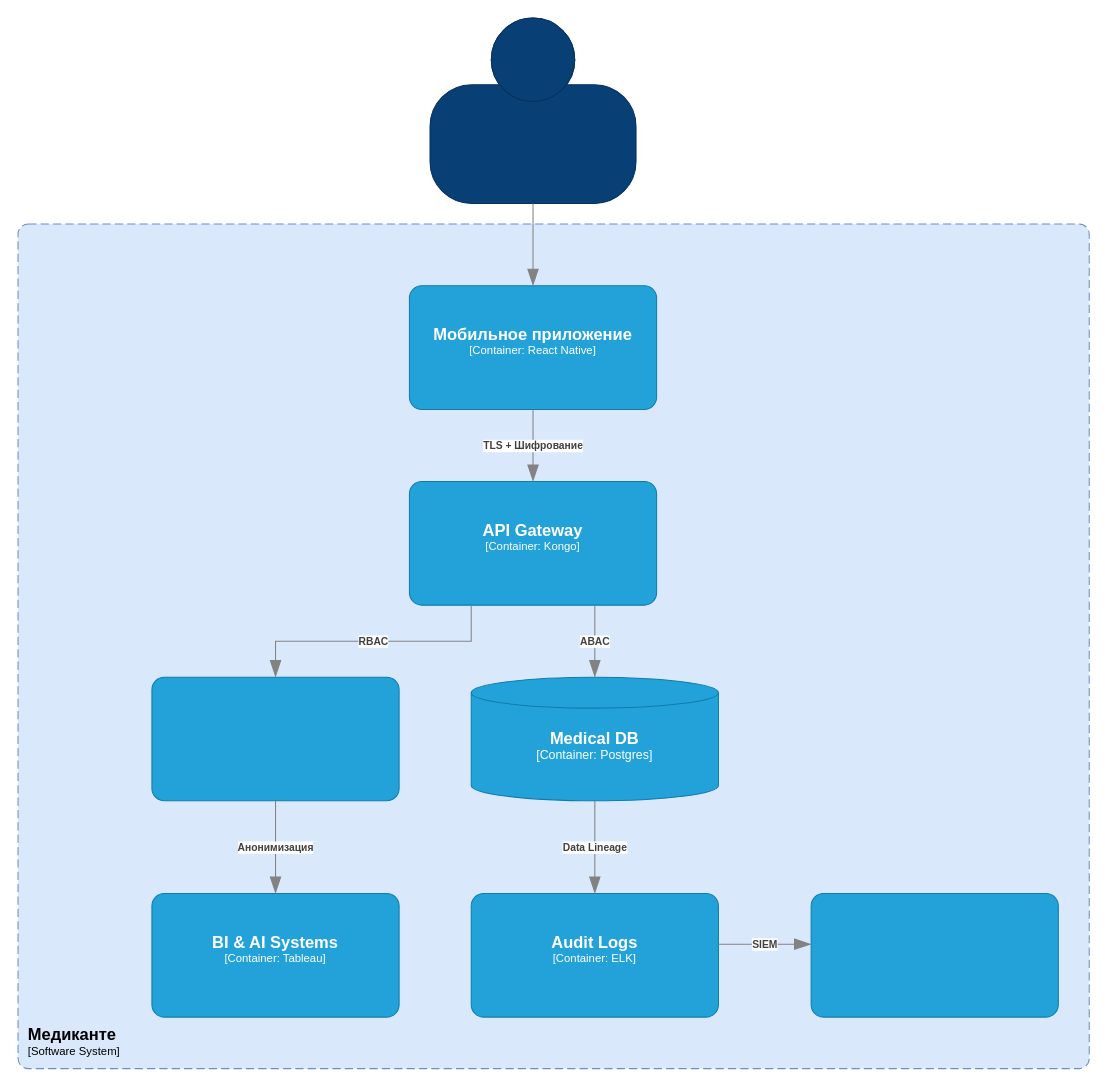
Image size: 1107x1087. Some labels were removed from this diagram. Each missing label, with the centre of its shape:
PII Vault [Container: ]: the point at 275,738
Security Alerts [Container: ]: the point at 934,954
Пациент [Person]: the point at 532,110
